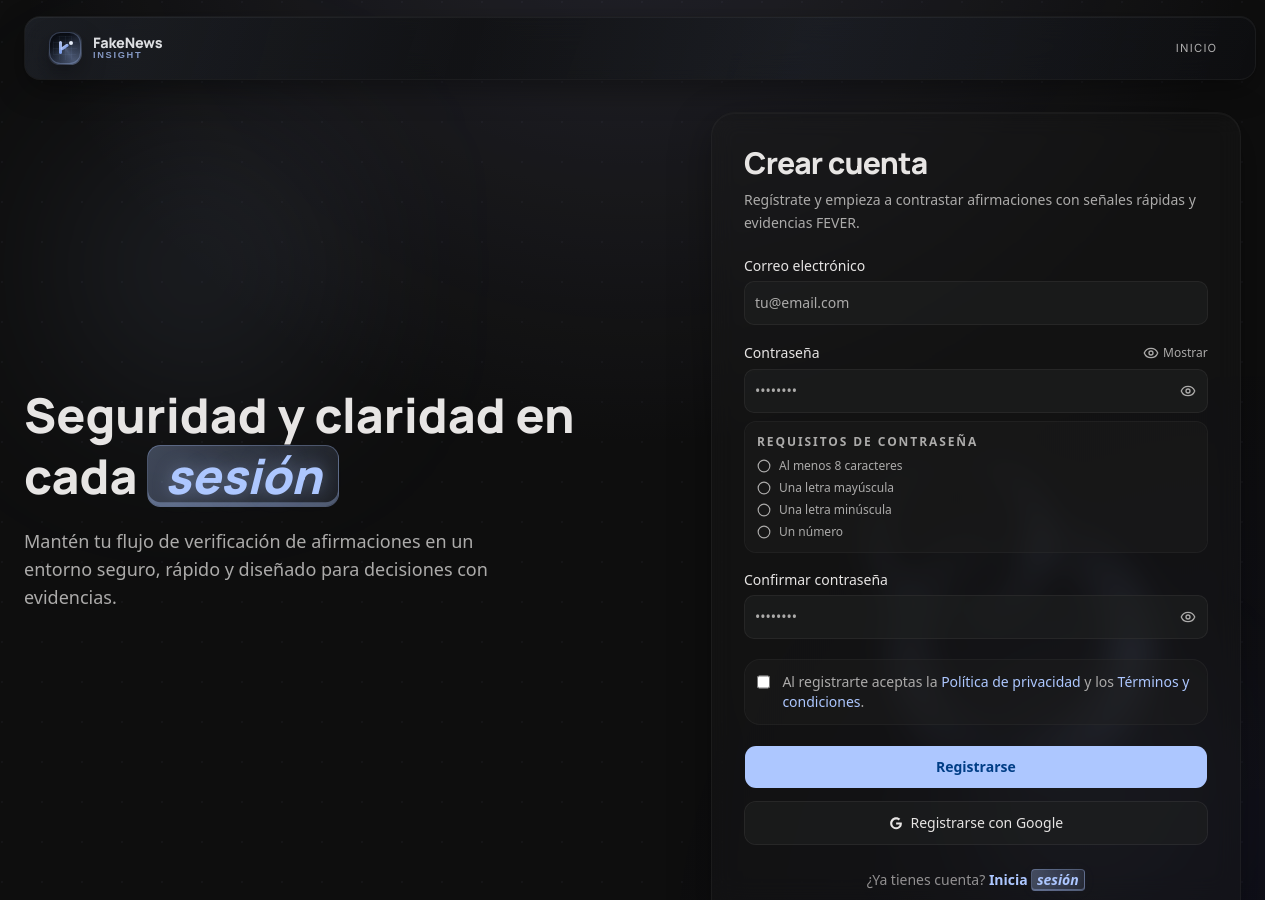
<Register /> › redirige a login mostrando mensaje de éxito sin usar alertas nativas
Type "nuevo@test.com" into the field labelled "Correo electrónico" at point(976, 302), box [744, 280, 1208, 324]
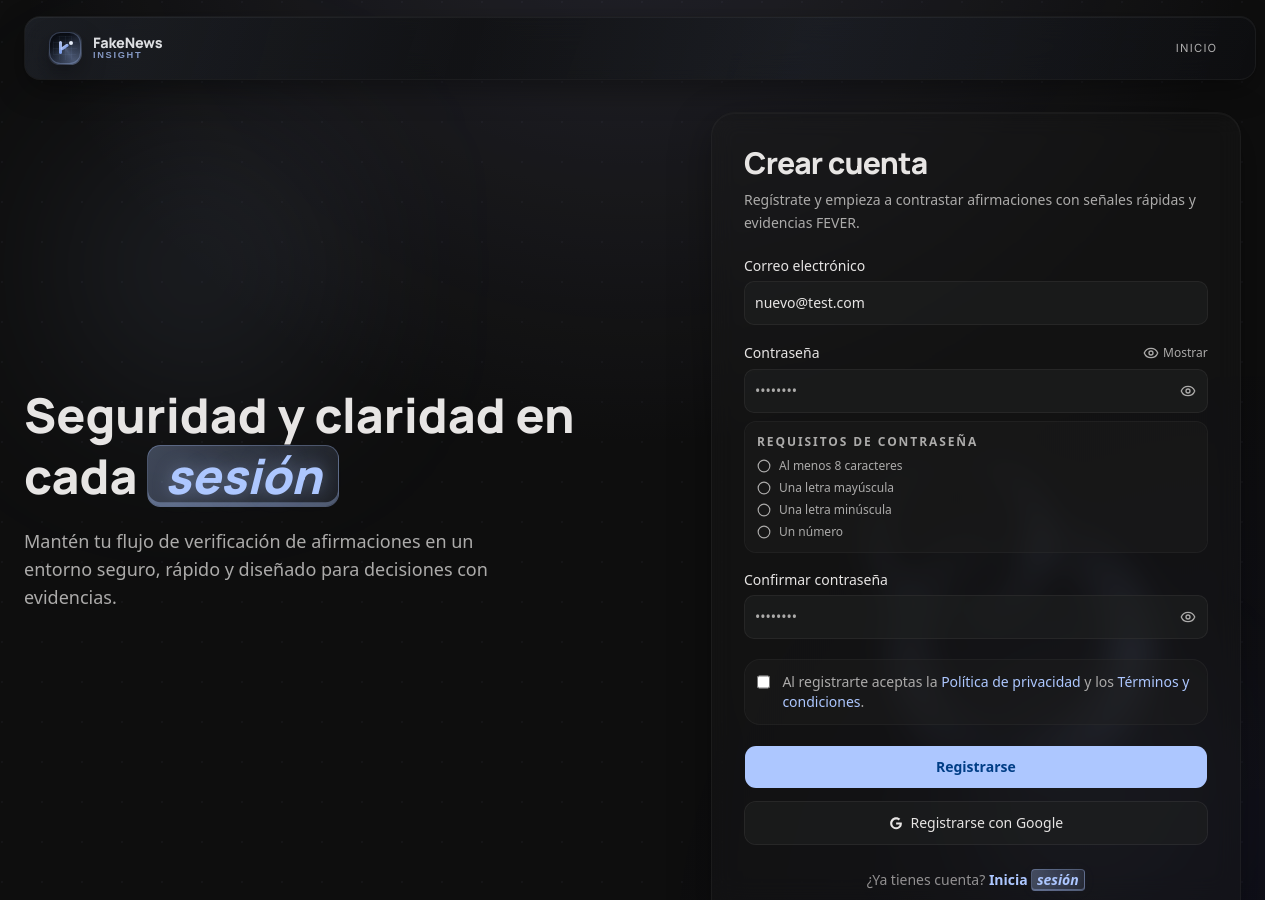
Type "Password123" into the password field labelled "Contraseña" at point(976, 390), box [744, 368, 1208, 412]
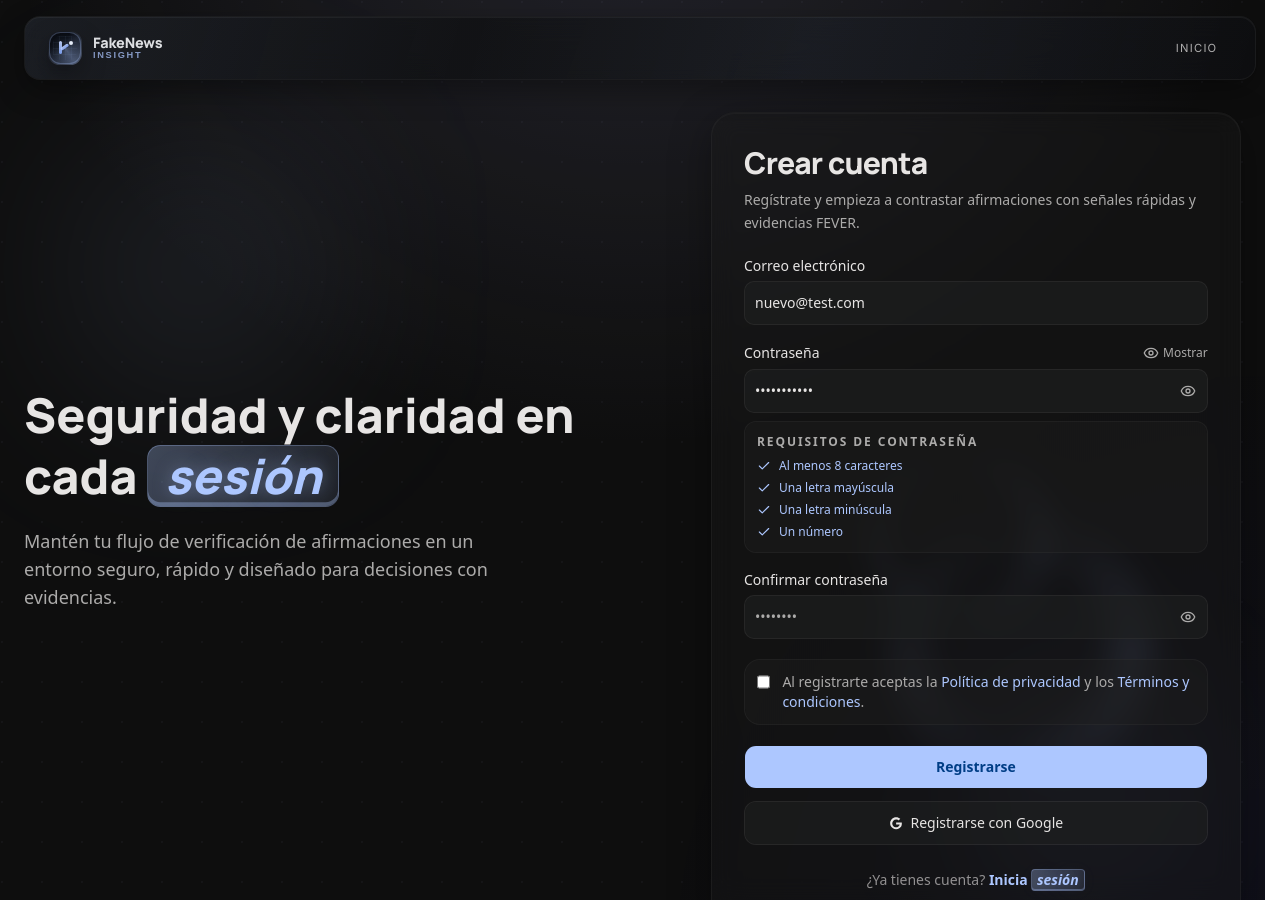
Type "Password123" into the password field labelled "Confirmar contraseña" at point(976, 616), box [744, 594, 1208, 638]
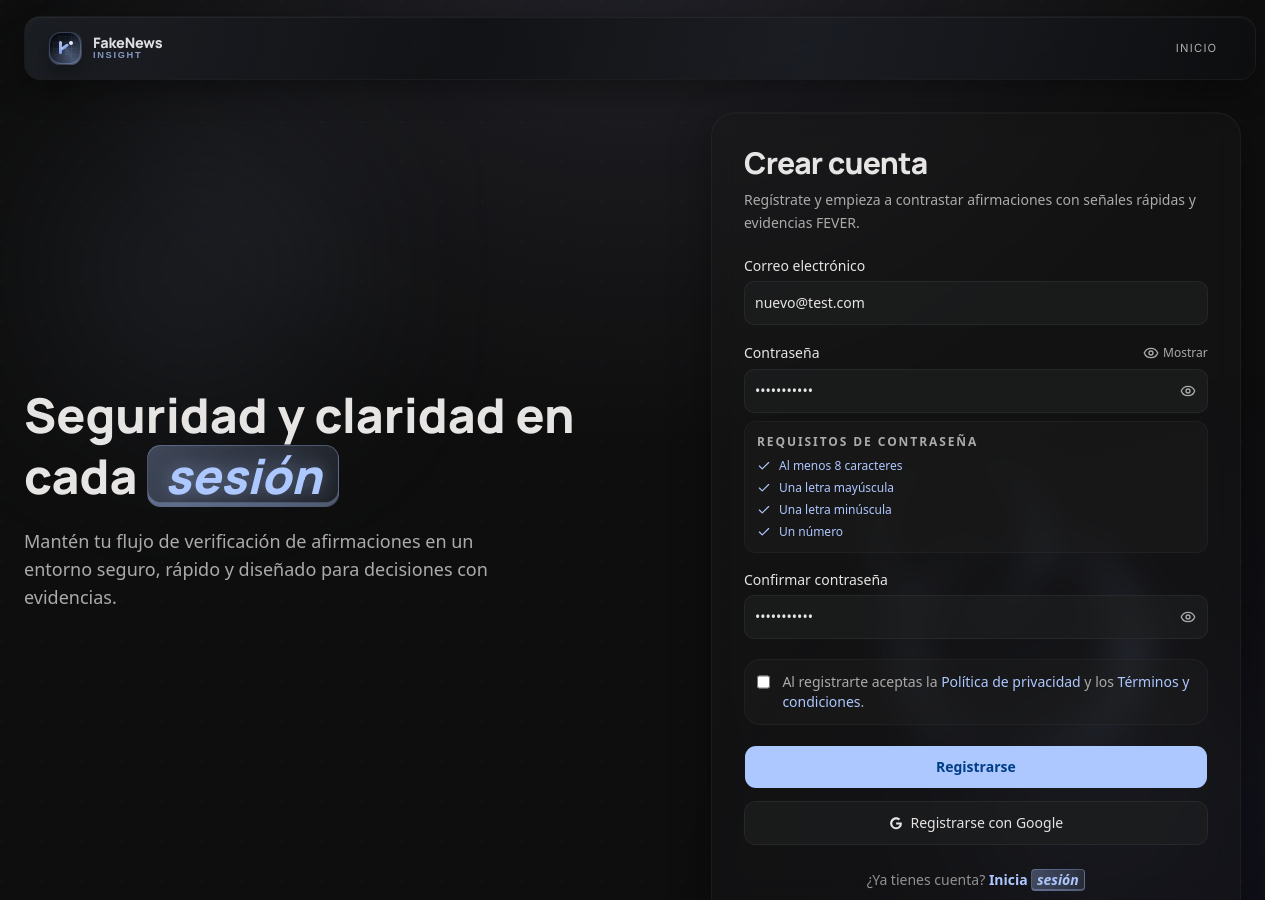
Click the checkbox at point(764, 682), box [757, 674, 771, 690]
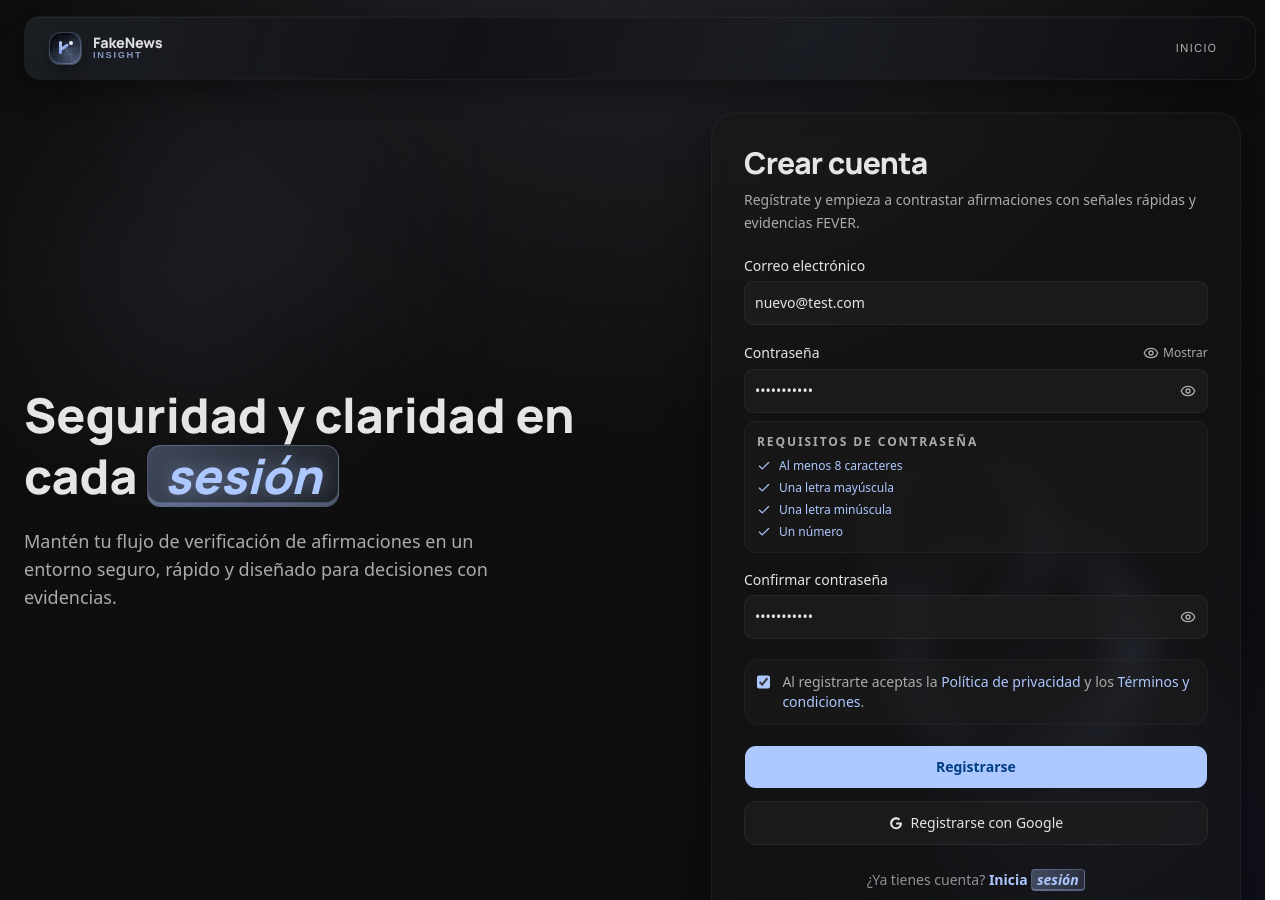
Click the button "Registrarse" at point(976, 766), box [744, 744, 1208, 788]
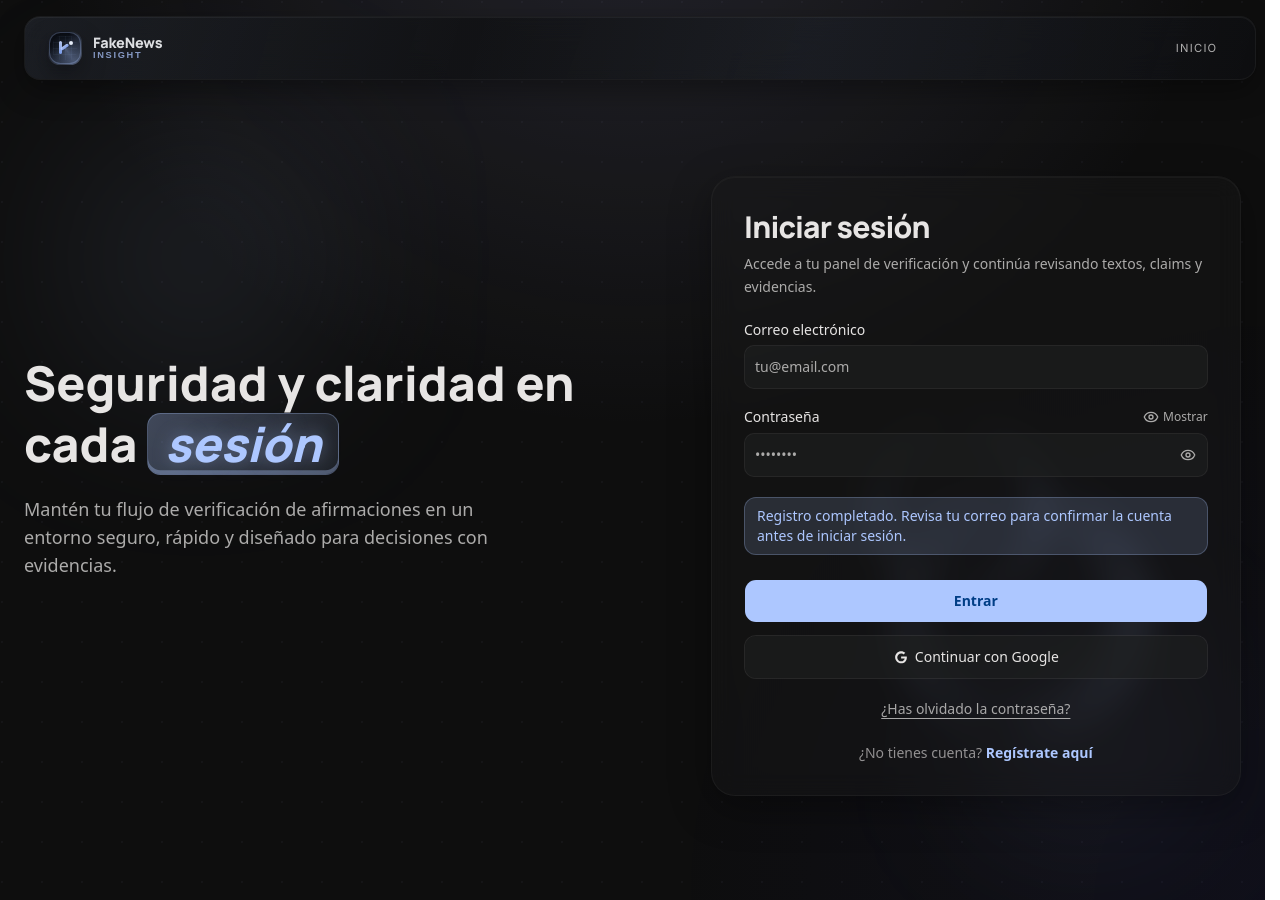
Expected: the text "Registro completado" is shown, [757, 506, 1172, 545]
